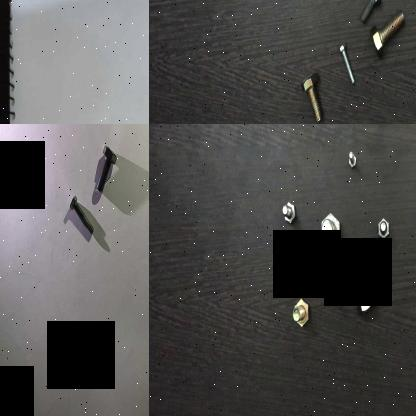Bolts: (369, 4, 410, 68), (352, 249, 379, 318), (301, 63, 327, 124), (68, 192, 94, 240), (95, 143, 118, 197), (318, 207, 342, 253), (335, 38, 356, 87), (290, 297, 312, 333), (359, 0, 383, 26), (281, 198, 300, 229), (373, 214, 392, 245), (330, 290, 342, 314), (348, 148, 358, 172)
